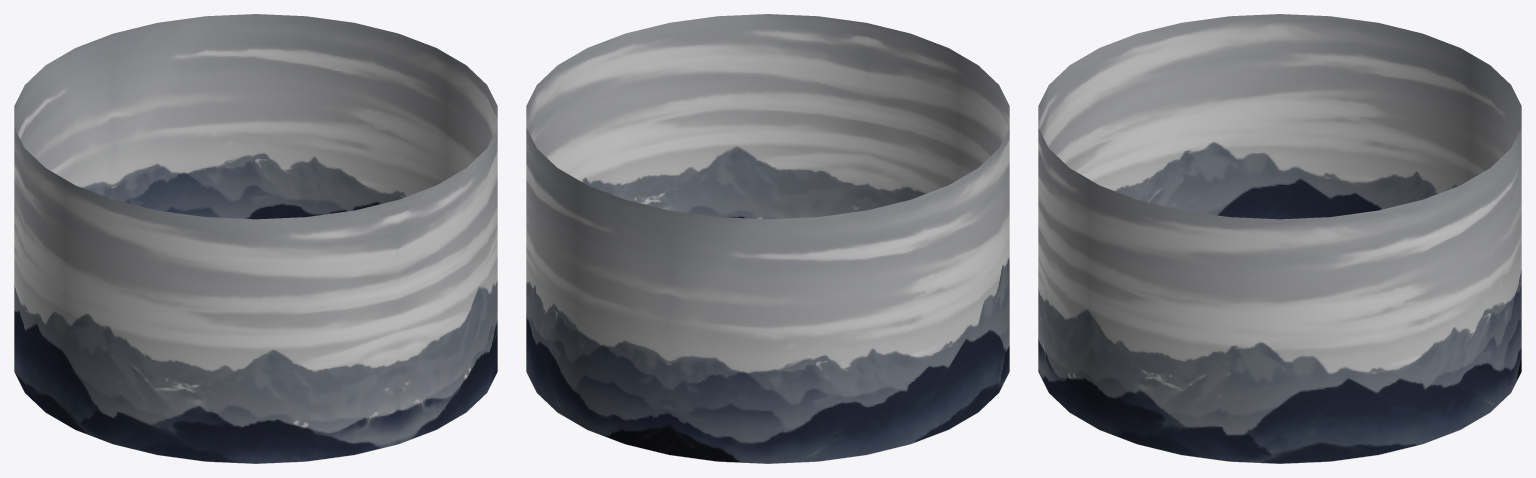
Rendered from environment.fbx.
3 views of the same model, side by side, from view 1: azimuth 30°, elevation 25°; view 2: azimuth 150°, elevation 25°; view 3: azimuth 270°, elevation 25° (orthographic).
Parts seen in each view (by area): view 1: pPipe1; view 2: pPipe1; view 3: pPipe1.
Part boxes in pixels (x1=…): pPipe1: x1=14, y1=14, x2=497, y2=463; pPipe1: x1=526, y1=14, x2=1009, y2=463; pPipe1: x1=1038, y1=14, x2=1521, y2=463.
Bounding box in the file's own units: 81.66 × 45.37 × 81.21.
